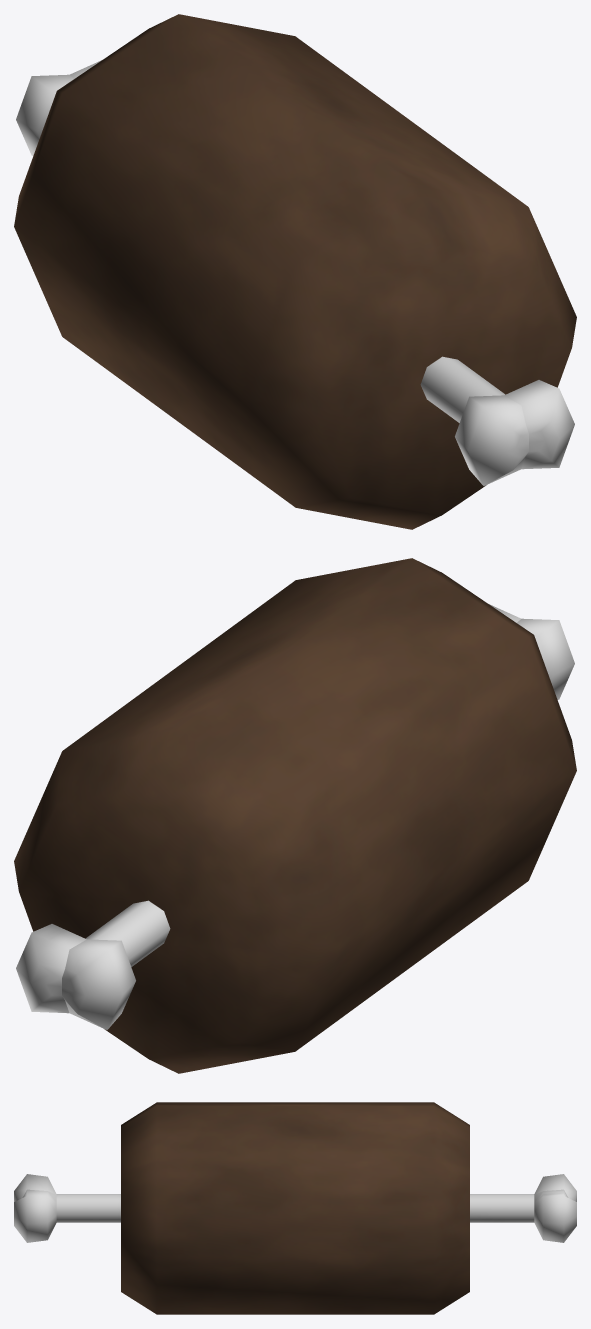
The model's file is mutant_raider_cured_chuck.glb.
3 views of the same model, one above another, from view 1: azimuth 30°, elevation 25°; view 2: azimuth 150°, elevation 25°; view 3: azimuth 270°, elevation 25° (orthographic). The views are drawn at different scales.
Visible parts, largest first — view 1: Meat Haunch; view 2: Meat Haunch; view 3: Meat Haunch.
Boxes of the visible parts, <box> form: Meat Haunch: <box>14,14,576,529</box>; Meat Haunch: <box>14,558,576,1073</box>; Meat Haunch: <box>14,1102,576,1314</box>.
Bounding box in the file's own units: 0.1057 × 0.1057 × 0.2634.
Materials: 1 (1 with a texture image).
